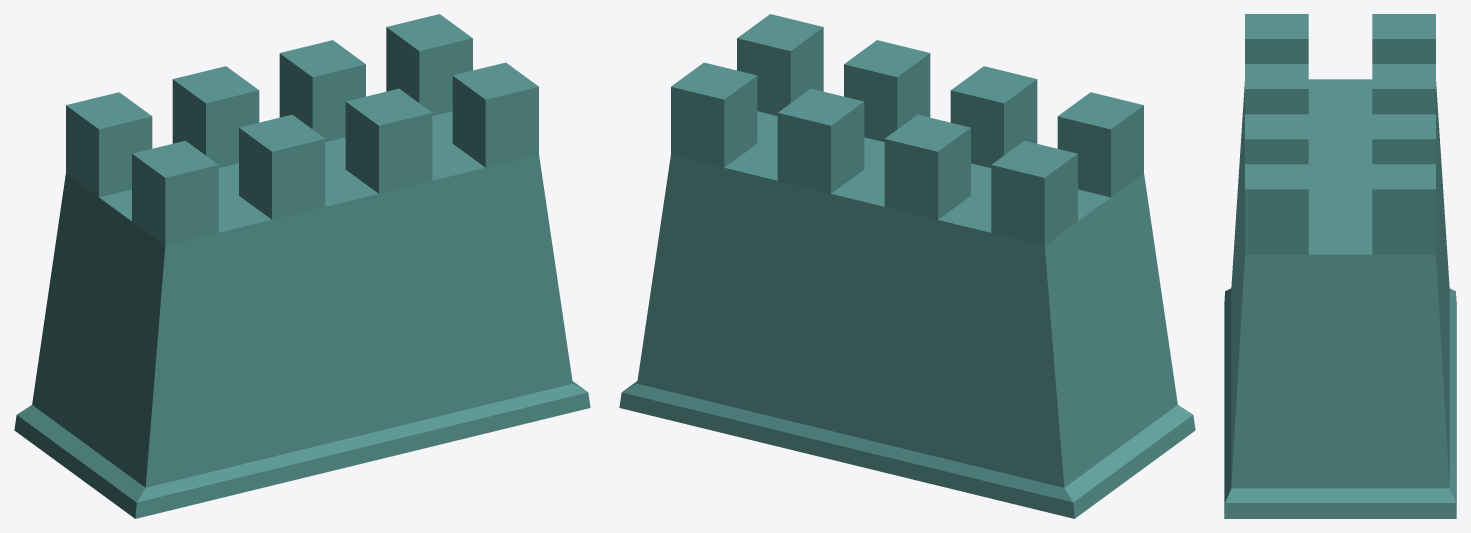
File: Mold_02.fbx
3 renders of one model, left to right at view 1: azimuth 30°, elevation 25°; view 2: azimuth 150°, elevation 25°; view 3: azimuth 270°, elevation 25°, orthographic. The views are drawn at different scales.
Parts seen in each view (by area): view 1: Mold_02; view 2: Mold_02; view 3: Mold_02.
Part boxes in pixels (<box>): Mold_02: <box>14,14,590,518</box>; Mold_02: <box>619,14,1195,518</box>; Mold_02: <box>1224,14,1456,518</box>.
Size of the model in its own units: 10.96 by 7.43 by 5.05.
